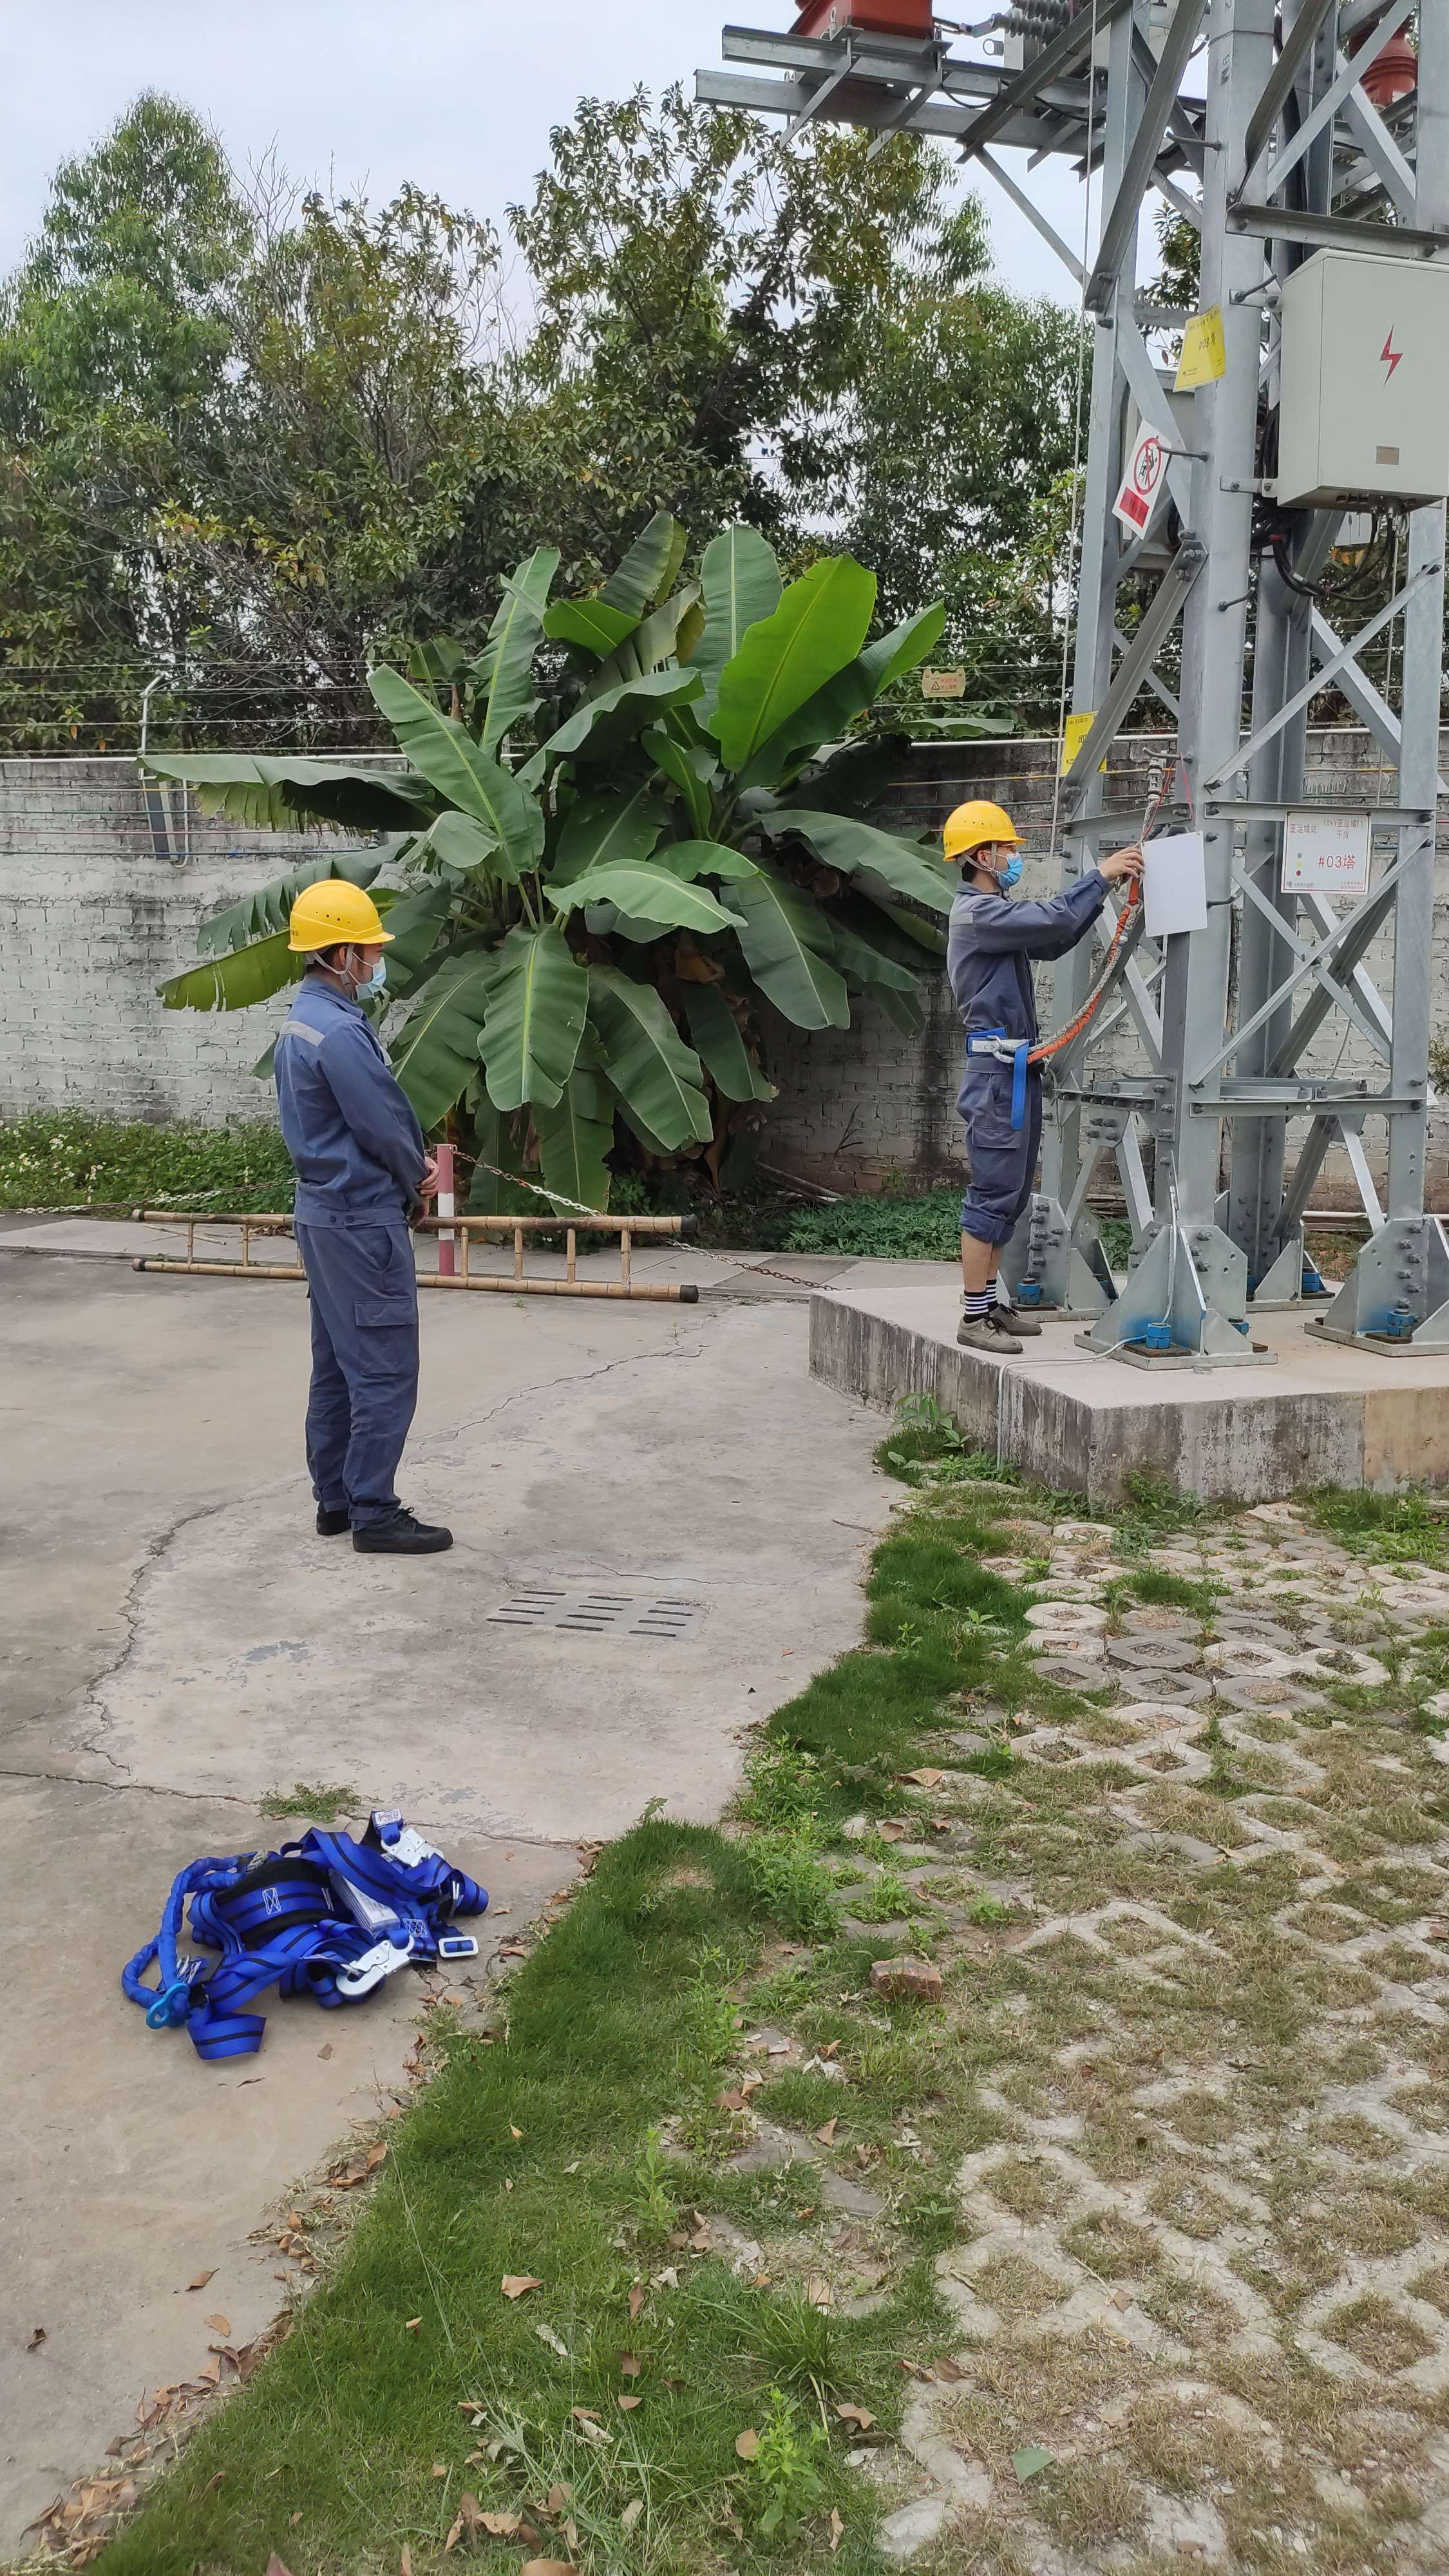downsuit: (297, 1238, 433, 1509), (954, 1065, 1044, 1279)
upsuit: (267, 980, 432, 1214), (941, 878, 1102, 1063)
wrongbottom: (955, 1200, 1010, 1307)
